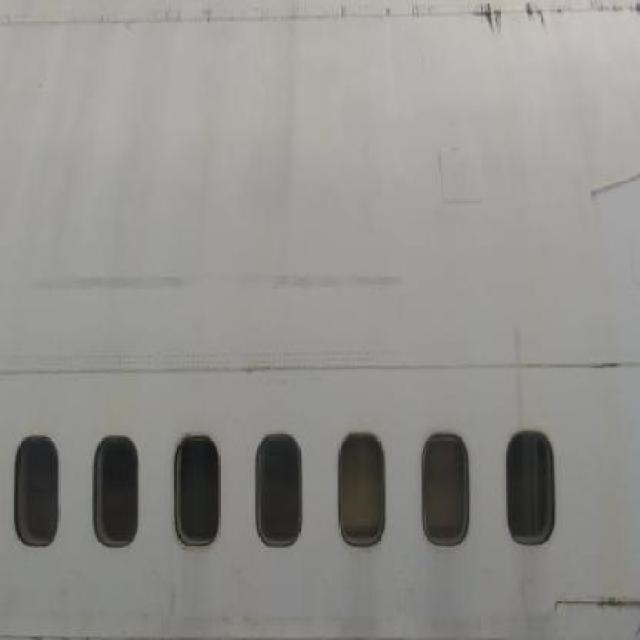Missing-Rivet: (594, 82, 626, 630), (260, 282, 312, 592), (440, 102, 594, 200), (414, 193, 444, 638), (184, 286, 259, 379), (311, 227, 412, 279)
